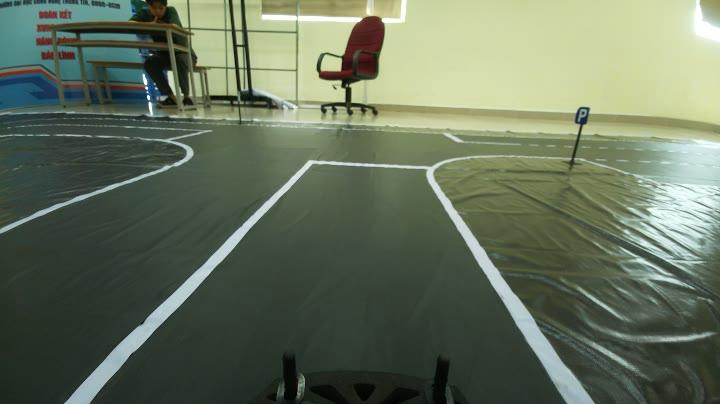parking: (569, 101, 594, 127)
